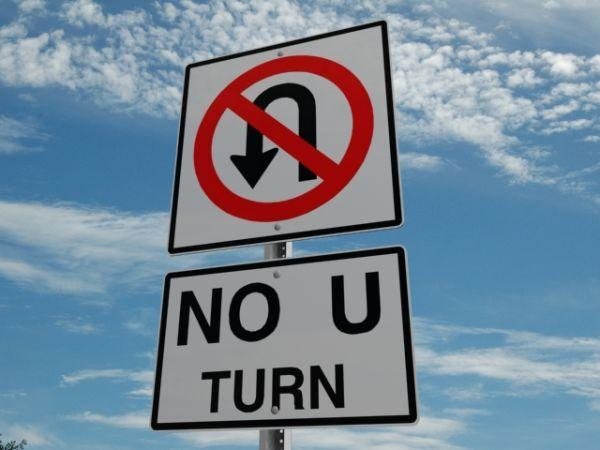No_u_turn: (192, 55, 375, 221)
